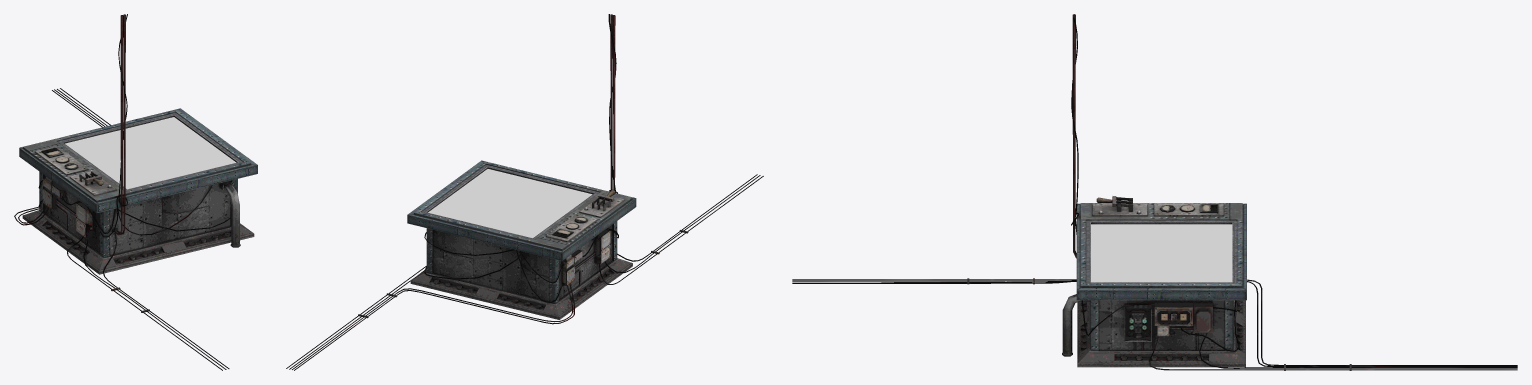
Rendered from MapTable.fbx.
The picture shows the model from 3 angles, left to right: view 1: azimuth 30°, elevation 25°; view 2: azimuth 150°, elevation 25°; view 3: azimuth 270°, elevation 25°; orthographic projection. The views are drawn at different scales.
Parts seen in each view (by area): view 1: BézierCurve.009; view 2: BézierCurve.009; view 3: BézierCurve.009.
Part boxes in pixels (x1,y1,x2,y2): BézierCurve.009: [14, 14, 257, 370]; BézierCurve.009: [286, 14, 763, 370]; BézierCurve.009: [792, 14, 1517, 370].
Size of the model in its own units: 196 by 281 by 658.
